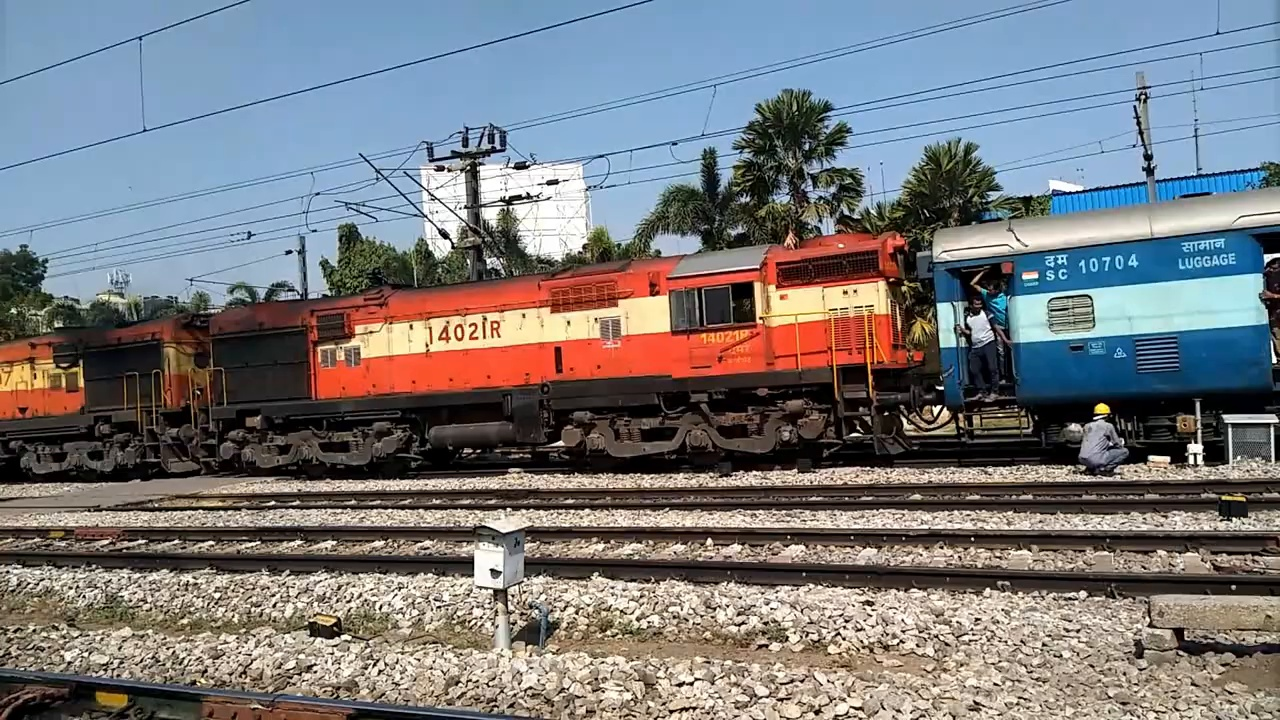Boogie: (1069, 252, 1150, 283)
Car Type: (1167, 232, 1249, 274)
Engine: (417, 314, 520, 345)
